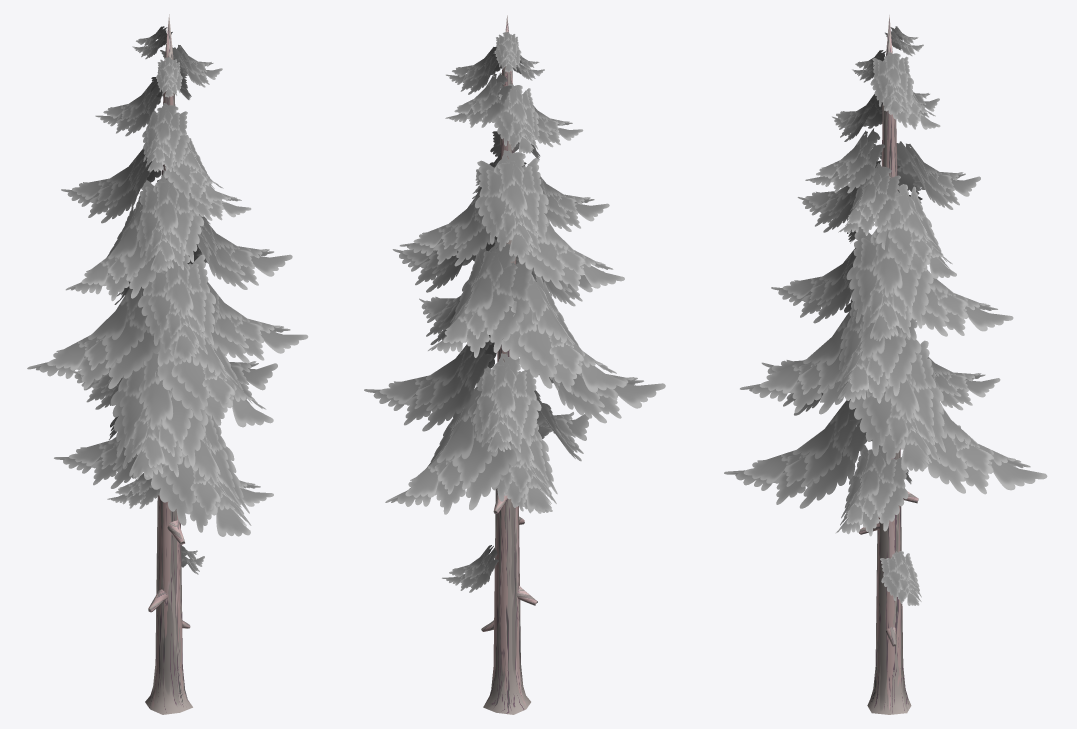
File: Pine_Big.fbx
3 renders of one model, left to right at view 1: azimuth 30°, elevation 25°; view 2: azimuth 150°, elevation 25°; view 3: azimuth 270°, elevation 25°, orthographic.
Visible parts, largest first — view 1: Pine_Big_LOD0; view 2: Pine_Big_LOD0; view 3: Pine_Big_LOD0.
Part boxes in pixels (<box>): Pine_Big_LOD0: <box>27,14,308,714</box>; Pine_Big_LOD0: <box>364,15,665,714</box>; Pine_Big_LOD0: <box>724,15,1047,714</box>.
Size of what is drawn, in the model's own units: 2420 by 5674 by 2633.
